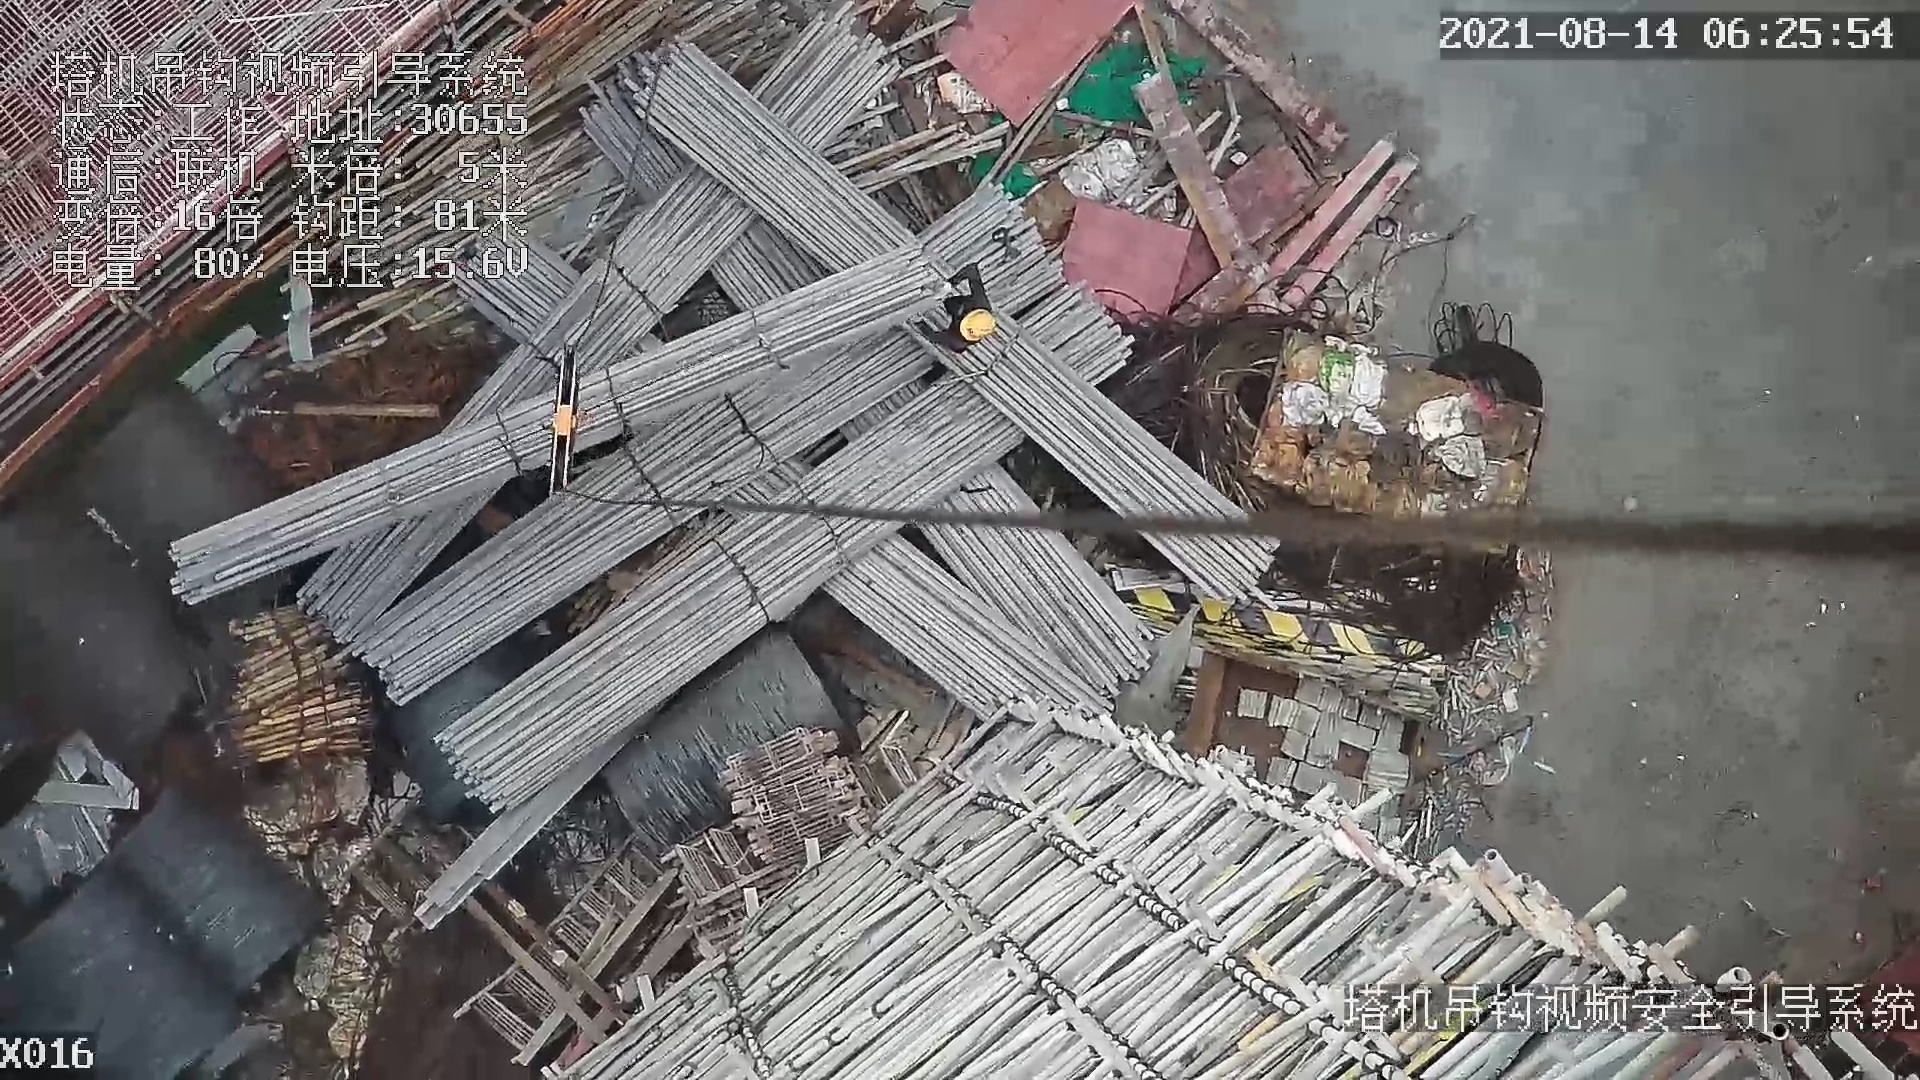helmet: (955, 305, 1001, 349)
hook: (532, 339, 595, 503)
person: (918, 268, 997, 355)
